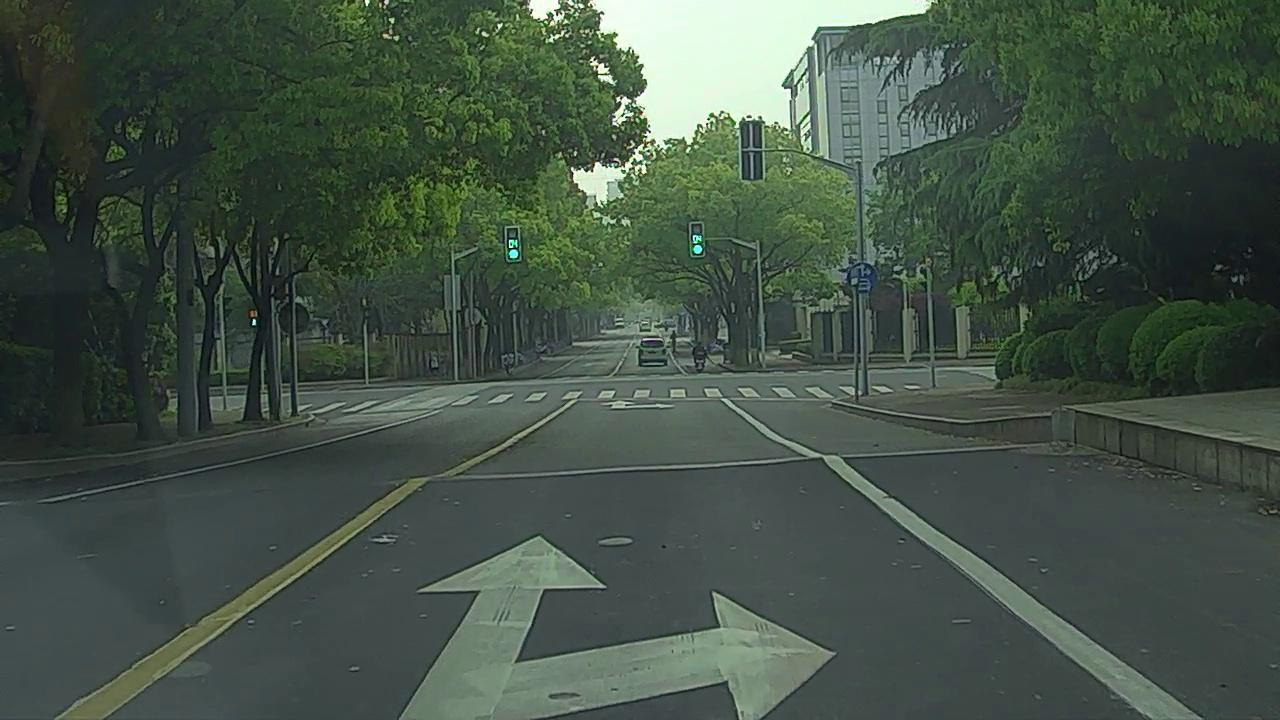traffic_light: (506, 227, 521, 260), (690, 222, 705, 255)
